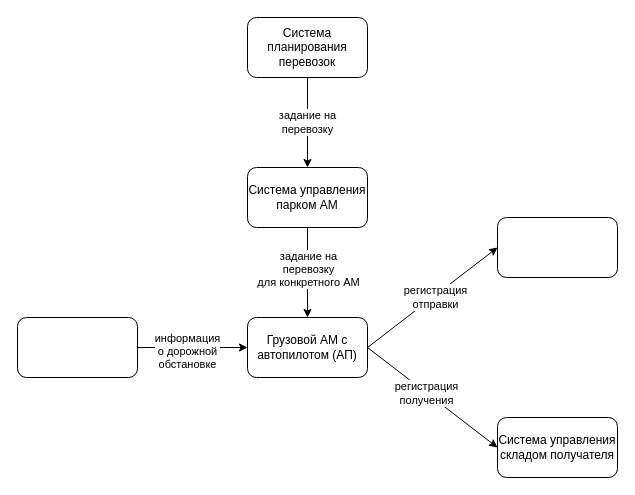
The diagram is 635 pixels wide and 495 high, and some of its shapes have lost their labels. Each missing label, with the centre of its shape:
"Система управления дорожной инфраструктурой" goes at (x=77, y=347).
"Система управления складом отправителя" goes at (x=557, y=247).
